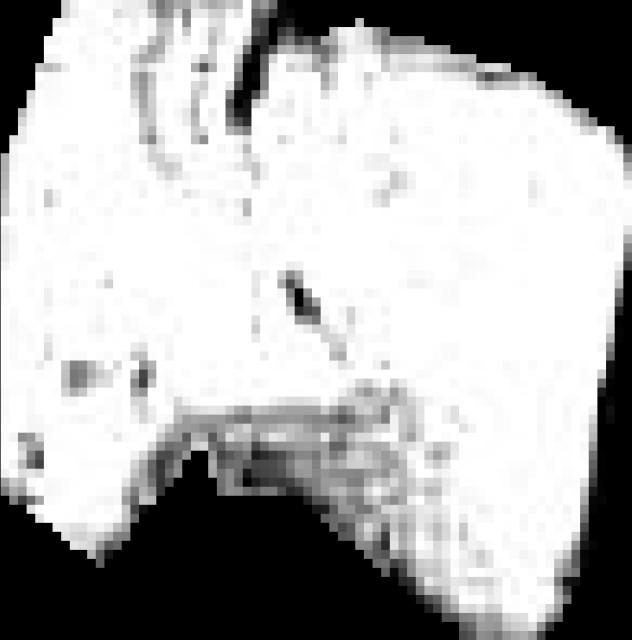tumor_good_chance: (1, 0, 632, 640)
